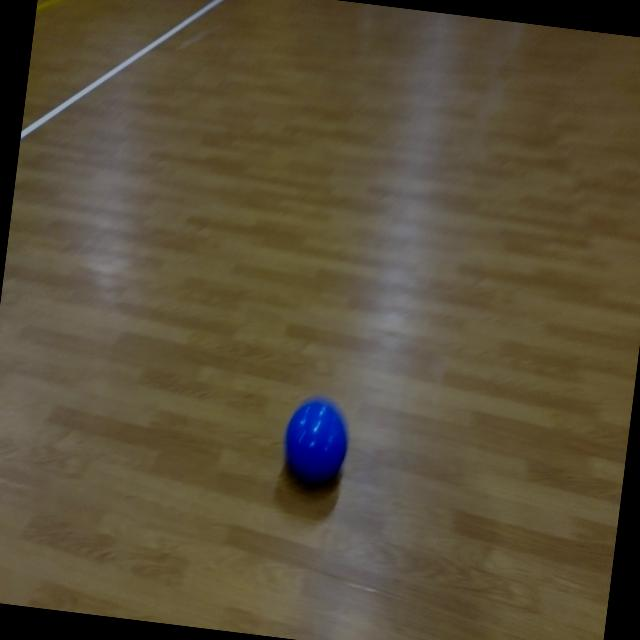blue_ball: (278, 394, 354, 488)
